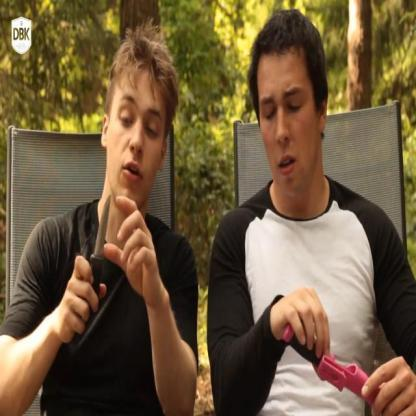Knife: (75, 186, 114, 318)
